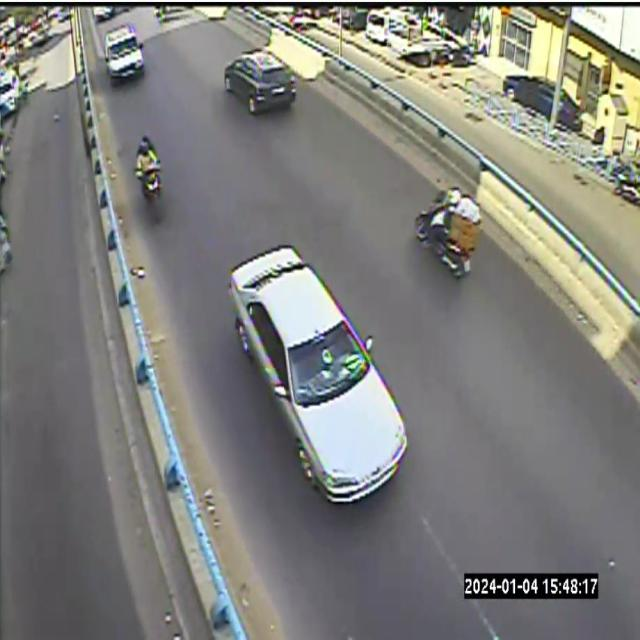car: (229, 245, 406, 504), (225, 50, 296, 113), (93, 5, 115, 24)
